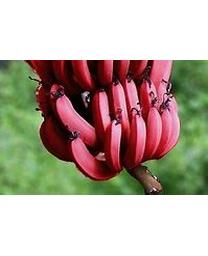banana: (24, 61, 179, 193)
